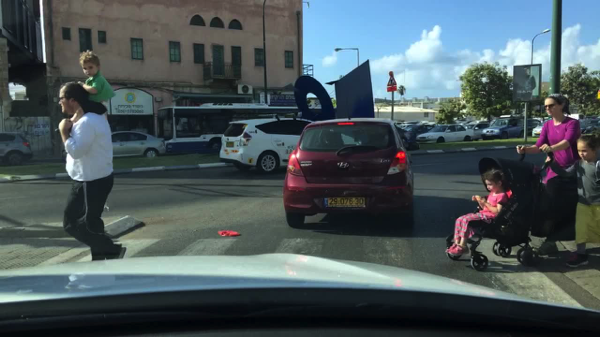bus: (156, 106, 300, 152)
car: (284, 118, 416, 229), (219, 118, 319, 176), (111, 131, 166, 157), (0, 132, 34, 165), (480, 116, 524, 140), (417, 125, 477, 142), (394, 128, 421, 150), (463, 123, 489, 141), (394, 123, 417, 143), (397, 125, 436, 132), (526, 119, 541, 136), (569, 113, 586, 125), (532, 123, 546, 137), (584, 115, 599, 124), (418, 120, 434, 125), (397, 124, 415, 127), (394, 120, 403, 124), (403, 121, 419, 123), (455, 121, 471, 123), (470, 120, 486, 122), (576, 145, 599, 146)
person: (57, 82, 127, 262), (516, 94, 584, 256), (546, 135, 599, 268), (444, 168, 508, 259), (77, 50, 116, 105), (582, 122, 598, 135)
traffic sign: (385, 72, 397, 87), (386, 87, 396, 93), (597, 89, 599, 101)
